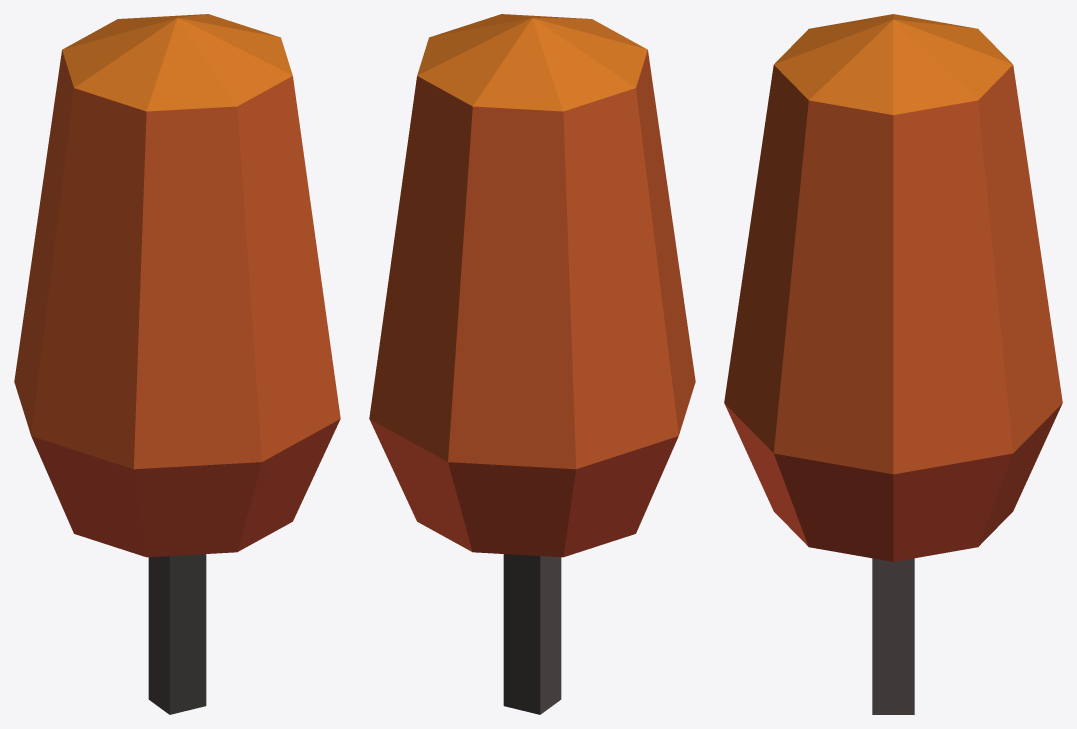
Rendered from TB_CITY_Env_Tree_Round_D.FBX.
The picture shows the model from 3 angles, left to right: view 1: azimuth 30°, elevation 25°; view 2: azimuth 150°, elevation 25°; view 3: azimuth 270°, elevation 25°; orthographic projection.
Visible parts, largest first — view 1: TB_CITY_Env_Tree_Round_D; view 2: TB_CITY_Env_Tree_Round_D; view 3: TB_CITY_Env_Tree_Round_D.
Part boxes in pixels (x1=…): TB_CITY_Env_Tree_Round_D: x1=14, y1=14, x2=340, y2=714; TB_CITY_Env_Tree_Round_D: x1=369, y1=14, x2=695, y2=714; TB_CITY_Env_Tree_Round_D: x1=724, y1=14, x2=1062, y2=714.
Size of the model in its own units: 2.88 by 6.44 by 2.88.
